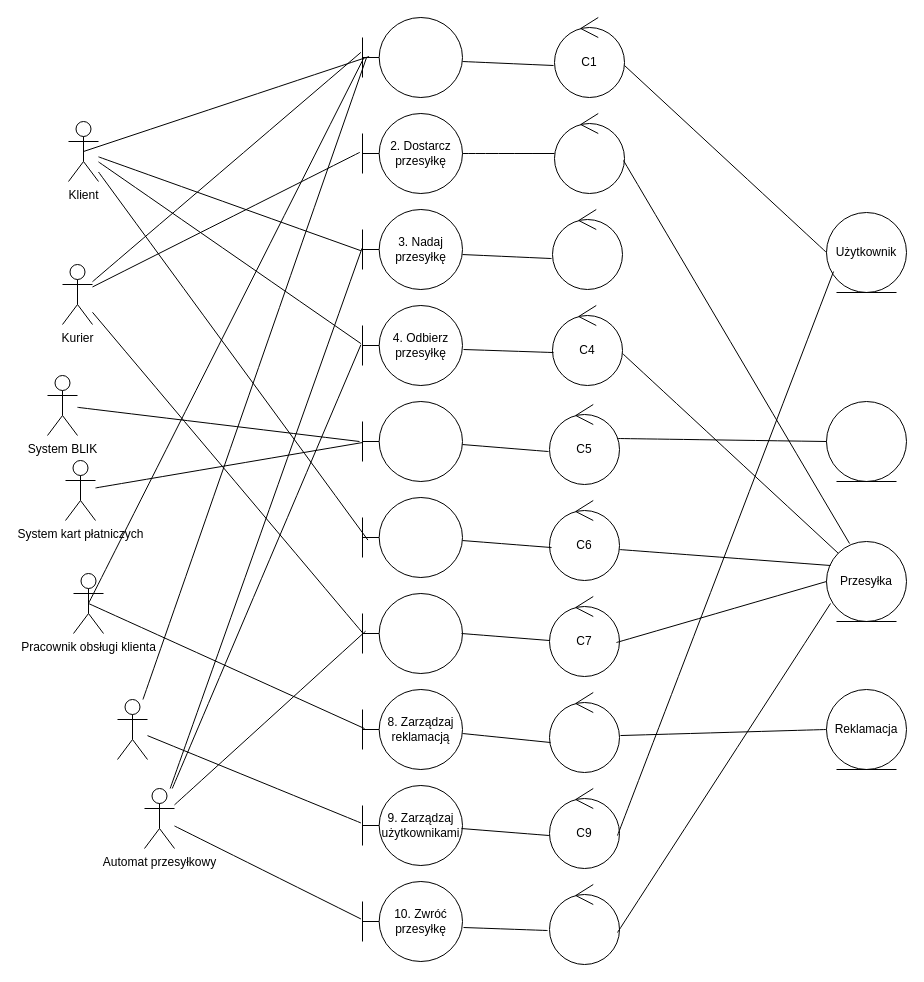
Some shapes in this 924 by 982 pixel diagram are drawn without their labels. Here are the shapes that lost their labels. From the top down, the centre of each, then its label:
At (412,57): "1. Autoryzuj użytkownika".
At (589,153): "C2".
At (587,249): "C3".
At (412,441): "5. Realizuj płatność".
At (866,441): "Płatność".
At (412,537): "6. Śledź przesyłkę".
At (412,633): "7. Zarządzaj przesyłką".
At (132,729): "Operator systemu".
At (584,732): "C8".
At (584,924): "C10".
